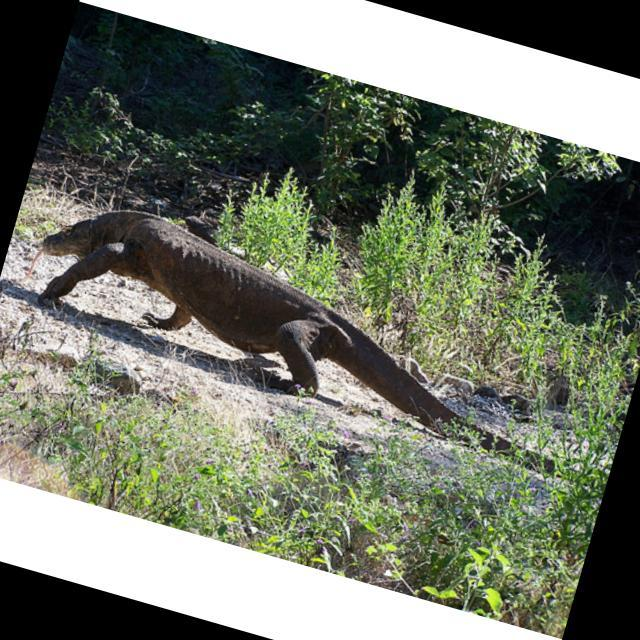KomodoDragon: (15, 182, 640, 490)
